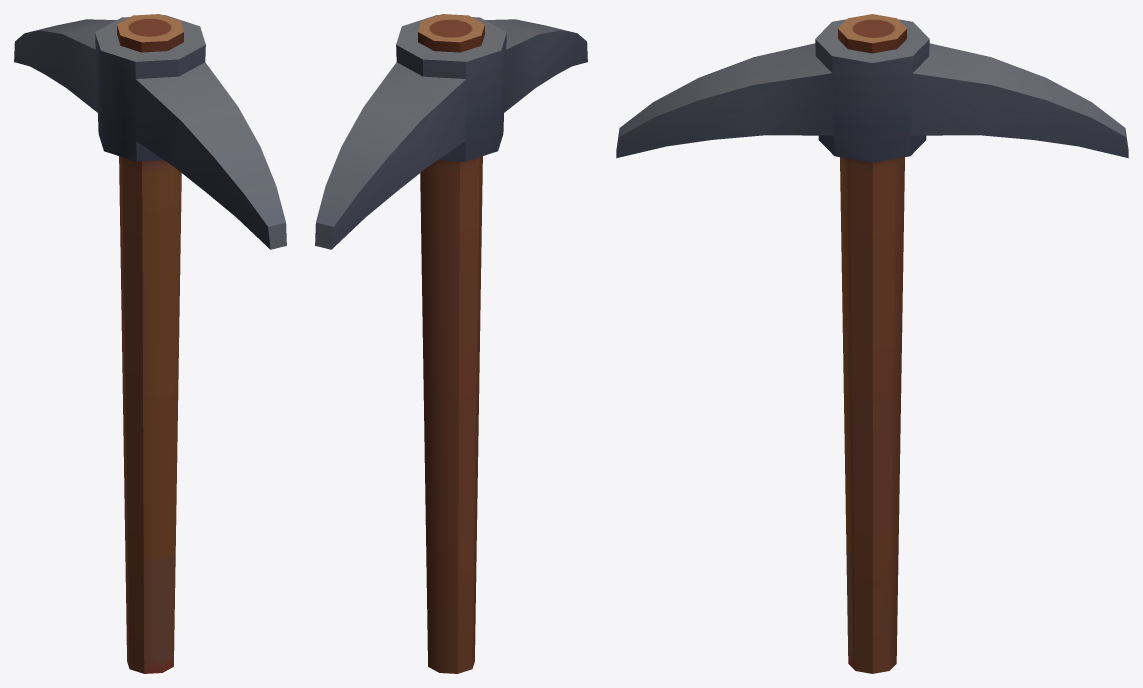
The model's file is Pickaxe1.fbx.
3 views of the same model, side by side, from view 1: azimuth 30°, elevation 25°; view 2: azimuth 150°, elevation 25°; view 3: azimuth 270°, elevation 25° (orthographic).
Parts seen in each view (by area): view 1: Pickaxe1; view 2: Pickaxe1; view 3: Pickaxe1.
Part boxes in pixels (box(x1,y1,x2,y2)): Pickaxe1: box(14, 14, 286, 673); Pickaxe1: box(315, 14, 587, 673); Pickaxe1: box(616, 14, 1128, 673).
Size of the model in its own units: 0.1678 by 1.03 by 0.7504.
